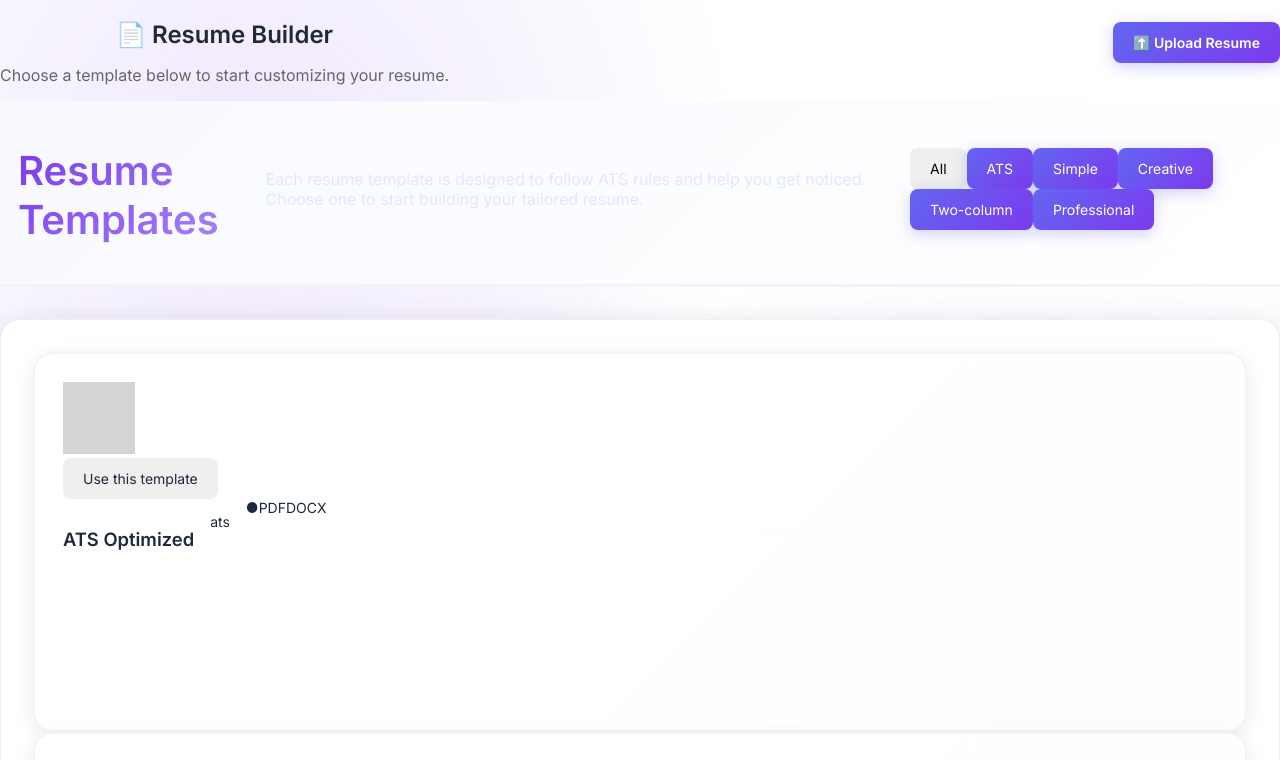
Resume › shows cancel button when upload is shown
What coordinates should you click on to do the following:
click the button "⬆️ Upload Resume"
I would click on:
 (1196, 42)
Its box is [1113, 22, 1279, 63].
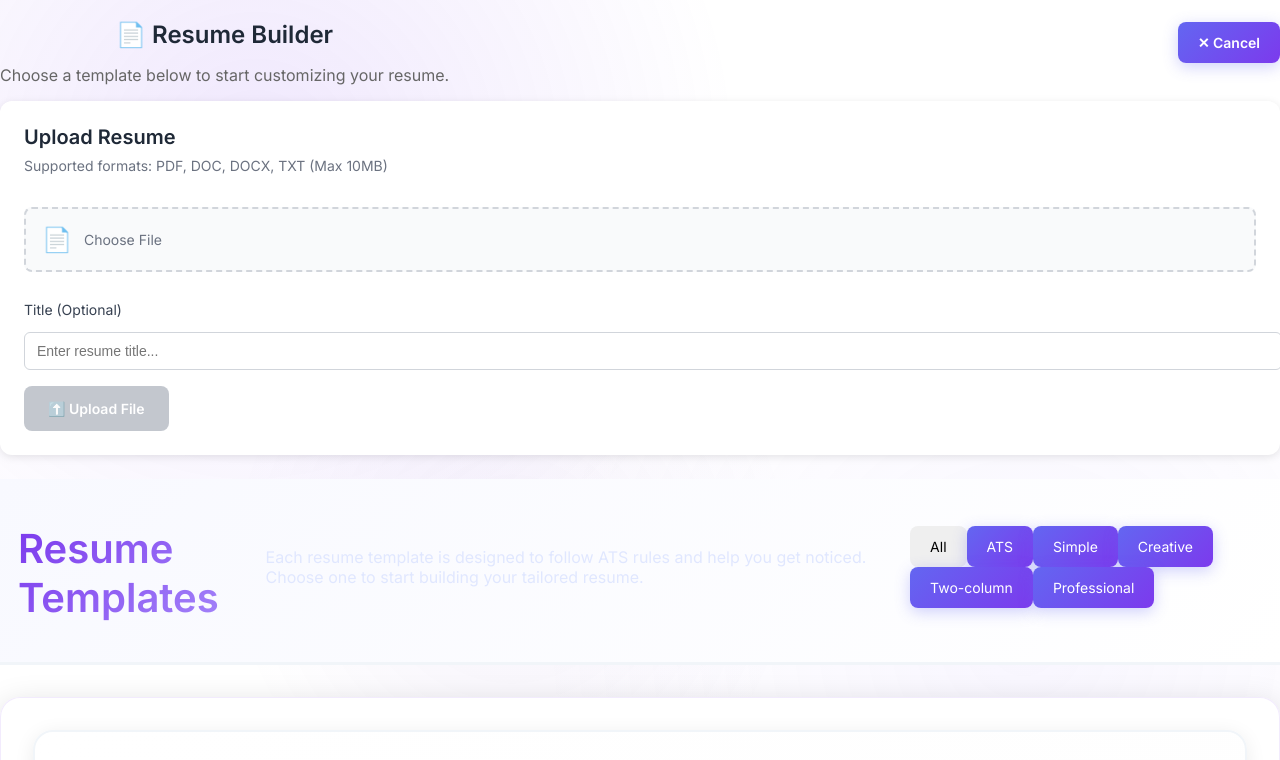
Expected: the button "✕ Cancel" is shown, [1178, 22, 1279, 63]
